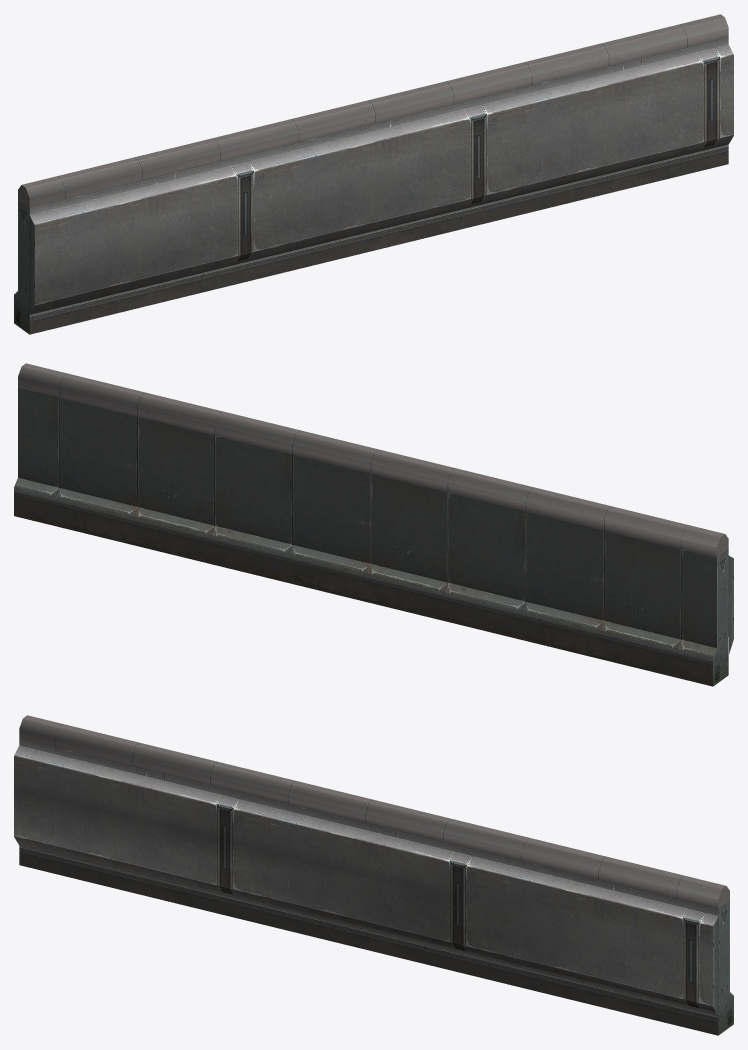
Rendered from Cover_Qiang01.glb.
3 renders of one model, top to bottom at view 1: azimuth 30°, elevation 25°; view 2: azimuth 150°, elevation 25°; view 3: azimuth 330°, elevation 25°, orthographic.
Parts seen in each view (by area): view 1: xiutz_qiang01; view 2: xiutz_qiang01; view 3: xiutz_qiang01.
Part boxes in pixels (bbox=[...]): xiutz_qiang01: bbox=[14, 14, 733, 334]; xiutz_qiang01: bbox=[14, 363, 733, 686]; xiutz_qiang01: bbox=[14, 715, 733, 1035].
Bounding box in the file's own units: 17.38 × 3.42 × 0.8976.
1 material, 1 textured.
